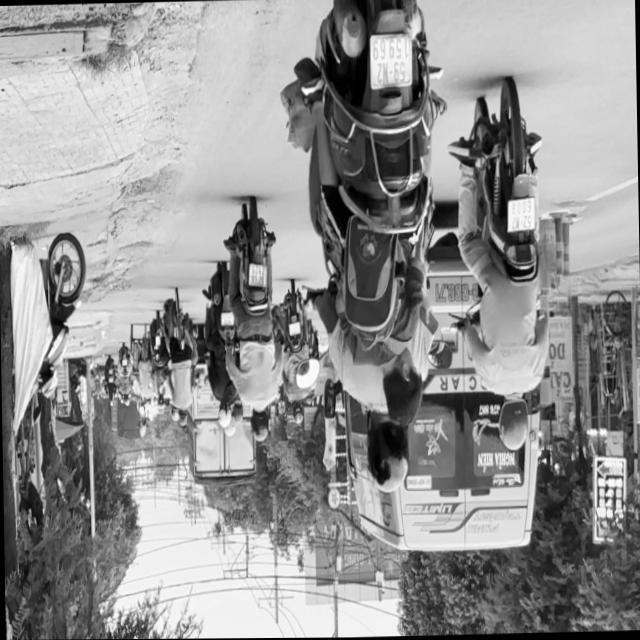helmet: (364, 418, 412, 497), (498, 398, 532, 453), (250, 409, 272, 444)
licenseplate: (280, 0, 457, 503), (451, 81, 554, 455), (222, 200, 284, 446)
motorcyclist: (380, 350, 428, 431)
nohelmet: (370, 36, 411, 88), (508, 198, 536, 233), (248, 263, 266, 289)
